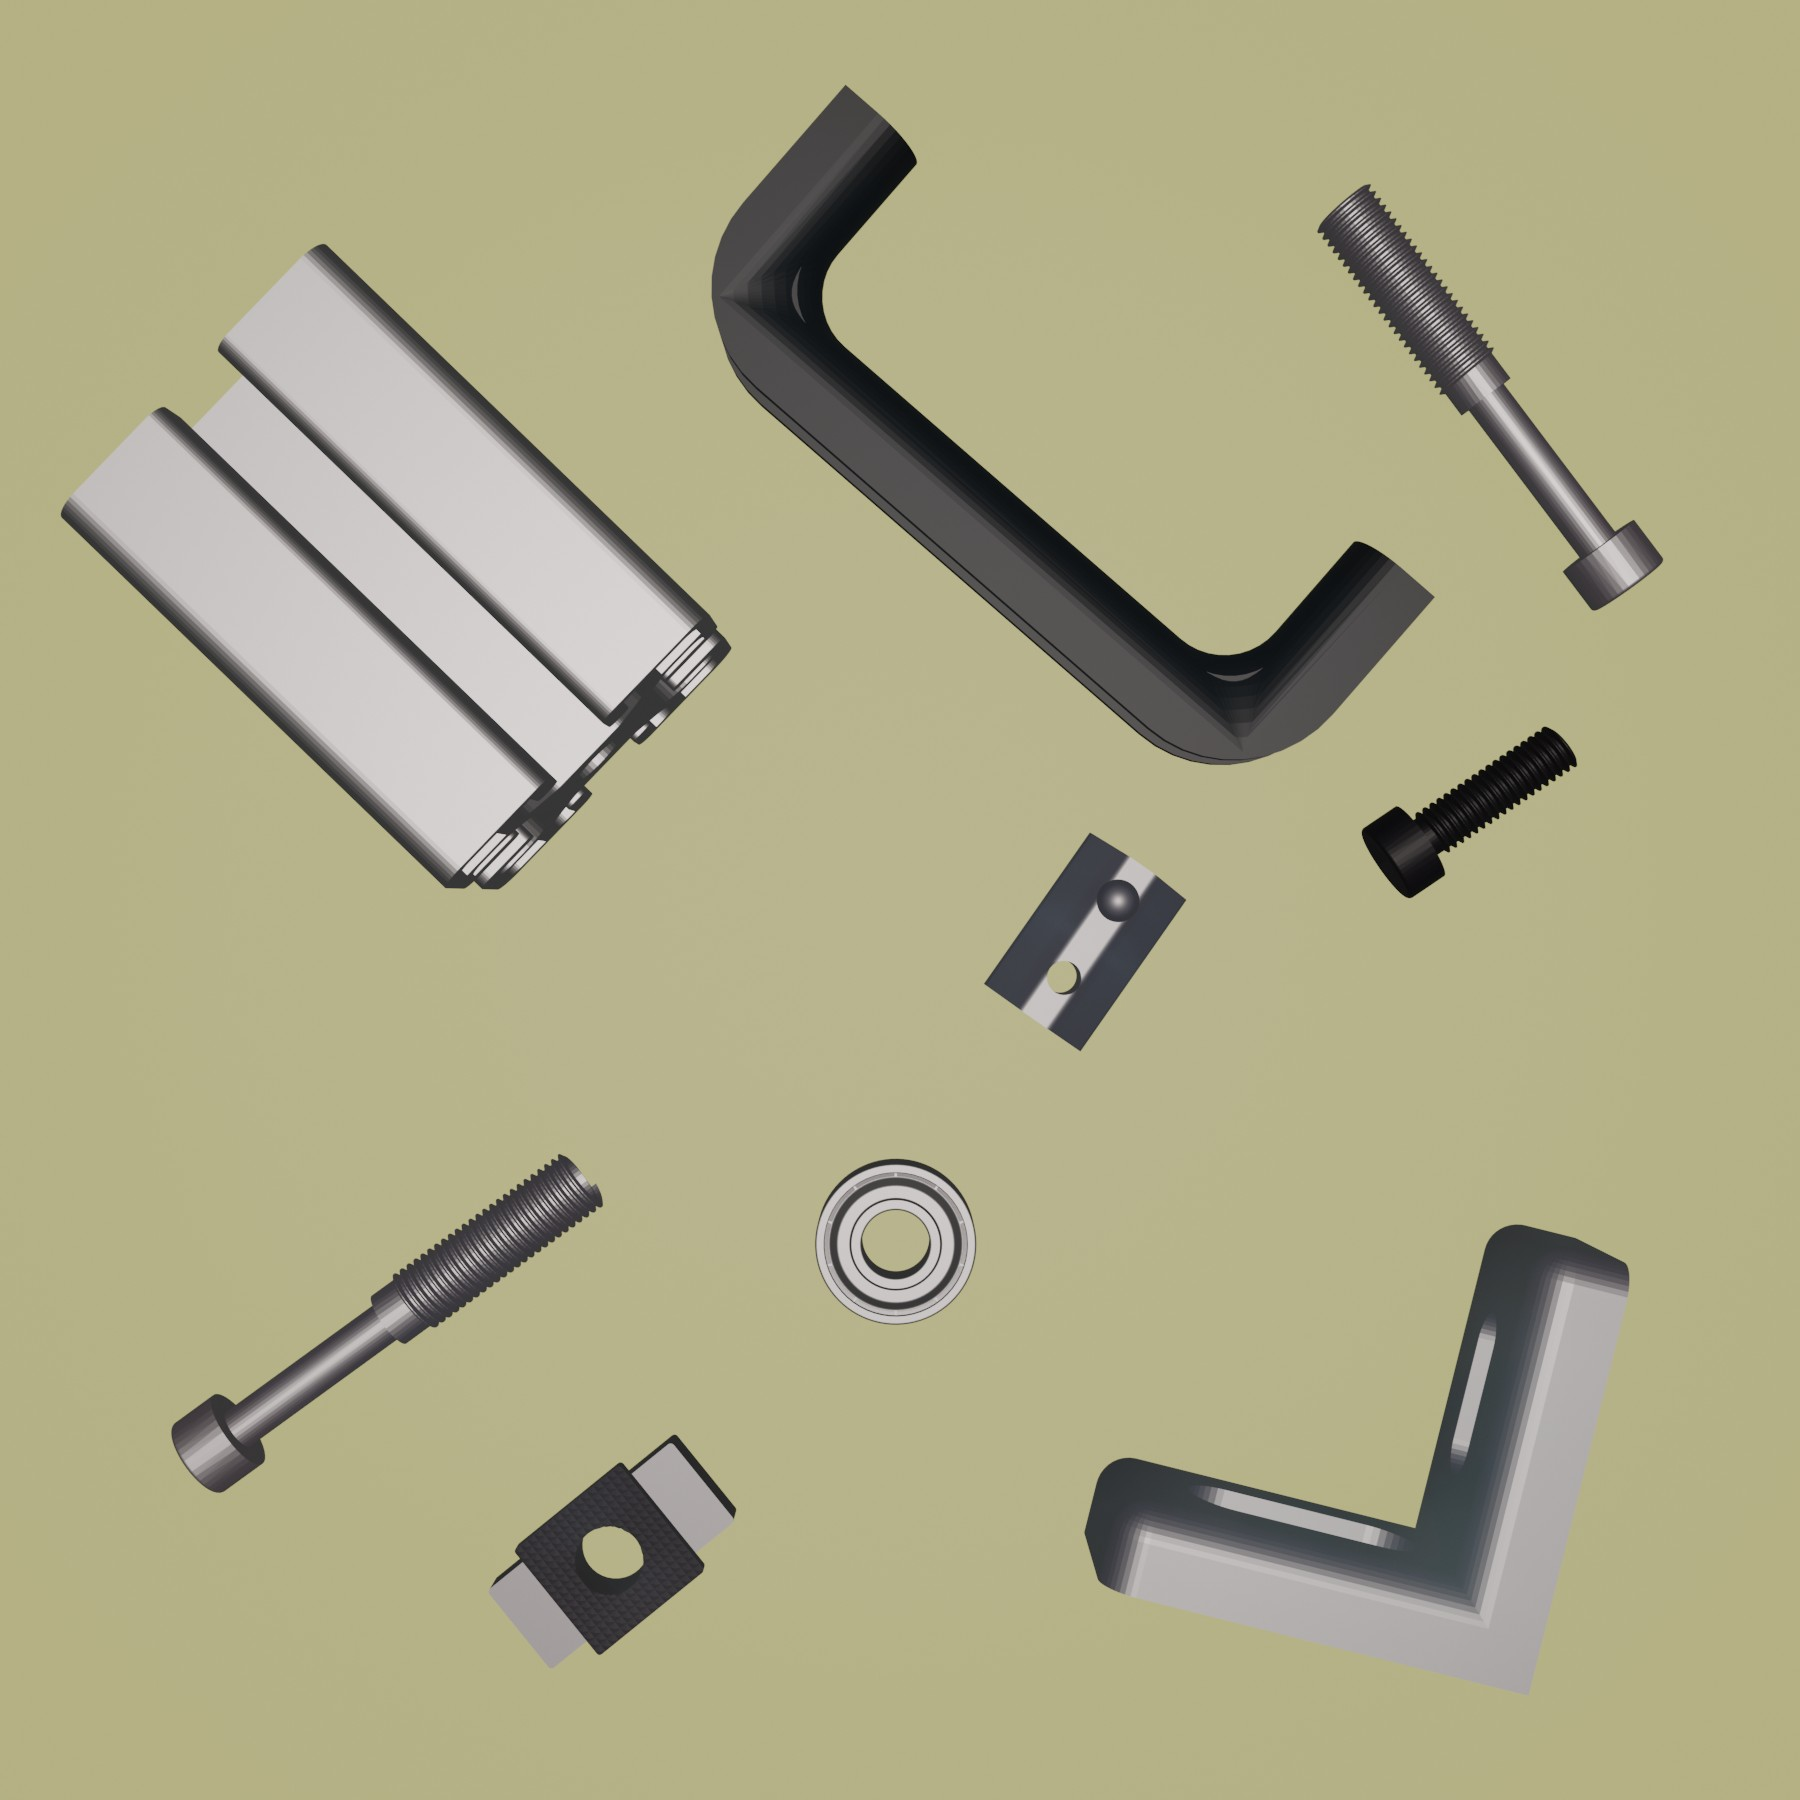Aluminium Extension: (59, 237, 734, 892)
Ball Bearing: (813, 1159, 979, 1327)
Multiwinkel: (1081, 1221, 1629, 1698)
Pull Handle: (709, 81, 1436, 766)
Shoulder Socket Head Cap Screw: (1314, 180, 1666, 613), (170, 1154, 605, 1495)
Socket Head Cap Screw: (1358, 724, 1577, 902)
T Nut Square: (486, 1432, 738, 1670)
T Spring Nut: (982, 832, 1188, 1053)
